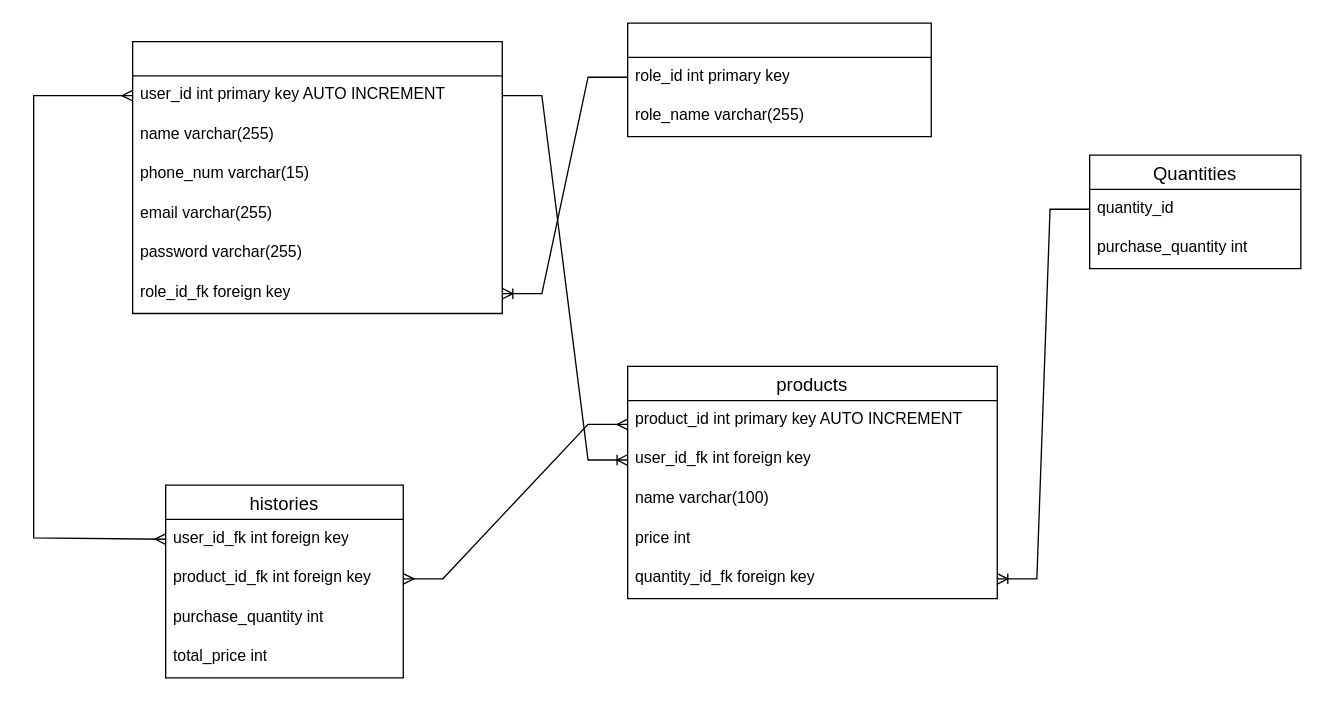
Image size: 1324x705. Some labels were removed from this diagram. Each missing label, with the box of its shape:
Roles: (626, 22, 931, 137)
Users: (131, 40, 502, 314)
